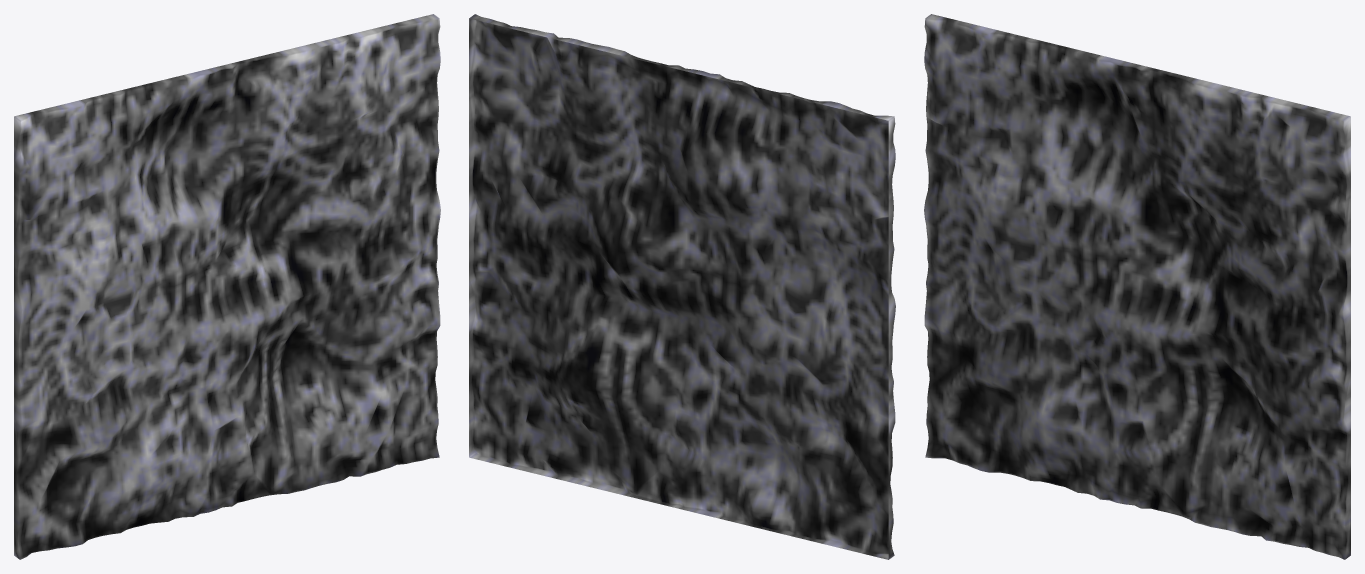
Rendered from bridg1_1.fbx.
3 renders of one model, left to right at view 1: azimuth 30°, elevation 25°; view 2: azimuth 150°, elevation 25°; view 3: azimuth 330°, elevation 25°, orthographic.
Visible parts, largest first — view 1: bridg1_1_mesh; view 2: bridg1_1_mesh; view 3: bridg1_1_mesh.
Boxes of the visible parts, x1=… form: bridg1_1_mesh: x1=14, y1=14, x2=440, y2=559; bridg1_1_mesh: x1=469, y1=14, x2=895, y2=559; bridg1_1_mesh: x1=924, y1=14, x2=1350, y2=559.
Bounding box in the file's own units: 256 × 256 × 28.75.
